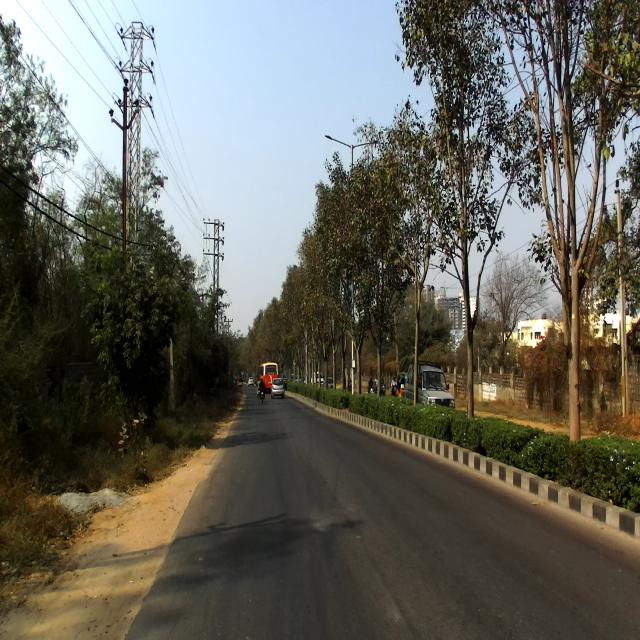tree ahead at: (98, 262, 182, 476)
